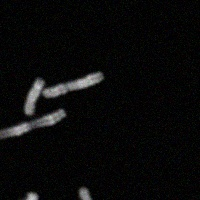chromosome: (0, 110, 66, 140), (42, 72, 103, 98), (25, 77, 45, 114), (1, 192, 38, 200), (79, 187, 98, 200)
